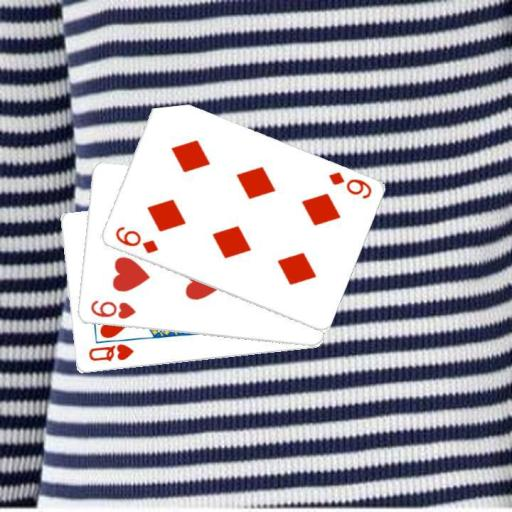6D: (325, 169, 373, 201), (112, 224, 159, 256)
6H: (87, 298, 137, 322)
QH: (85, 341, 135, 364)
